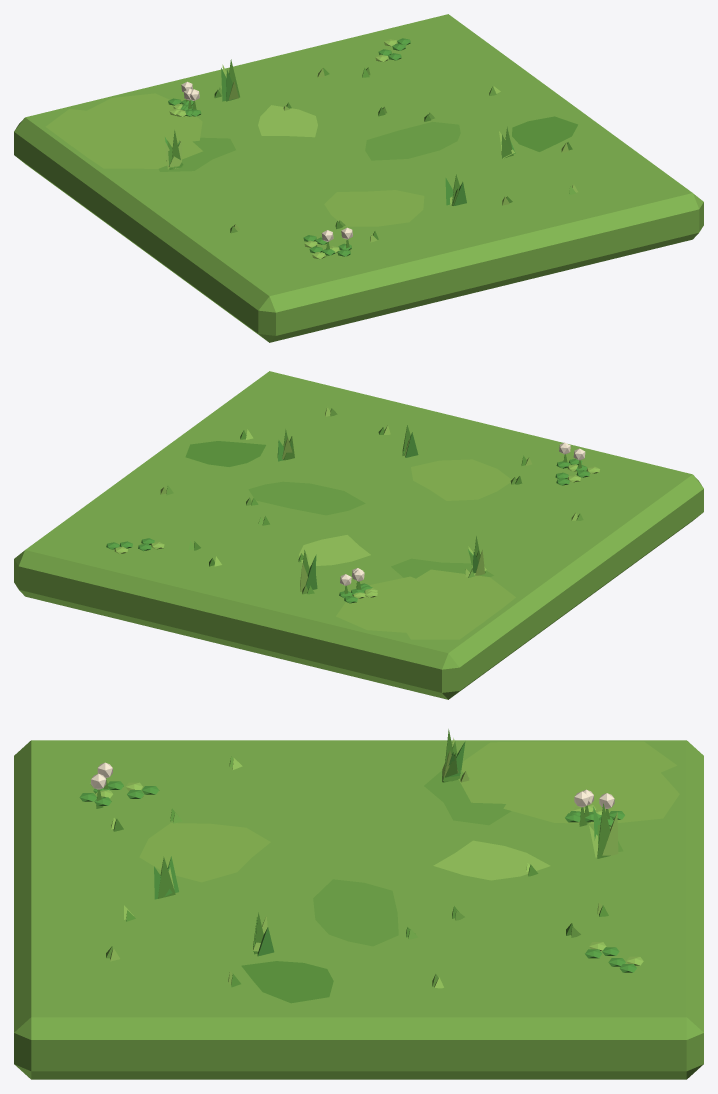
File: tile_grass_d.fbx
3 views of the same model, one above another, from view 1: azimuth 30°, elevation 25°; view 2: azimuth 150°, elevation 25°; view 3: azimuth 270°, elevation 25° (orthographic). The views are drawn at different scales.
Parts seen in each view (by area): view 1: tile_grass_d, Details; view 2: tile_grass_d, Details; view 3: tile_grass_d, Details.
Part boxes in pixels (x1,y1,x2,y2): tile_grass_d: [14, 14, 703, 342]; Details: [164, 38, 577, 259]; tile_grass_d: [14, 371, 703, 699]; Details: [106, 407, 599, 603]; tile_grass_d: [14, 740, 703, 1079]; Details: [79, 729, 643, 988].
Bounding box in the file's own units: 1 × 0.1834 × 1.
